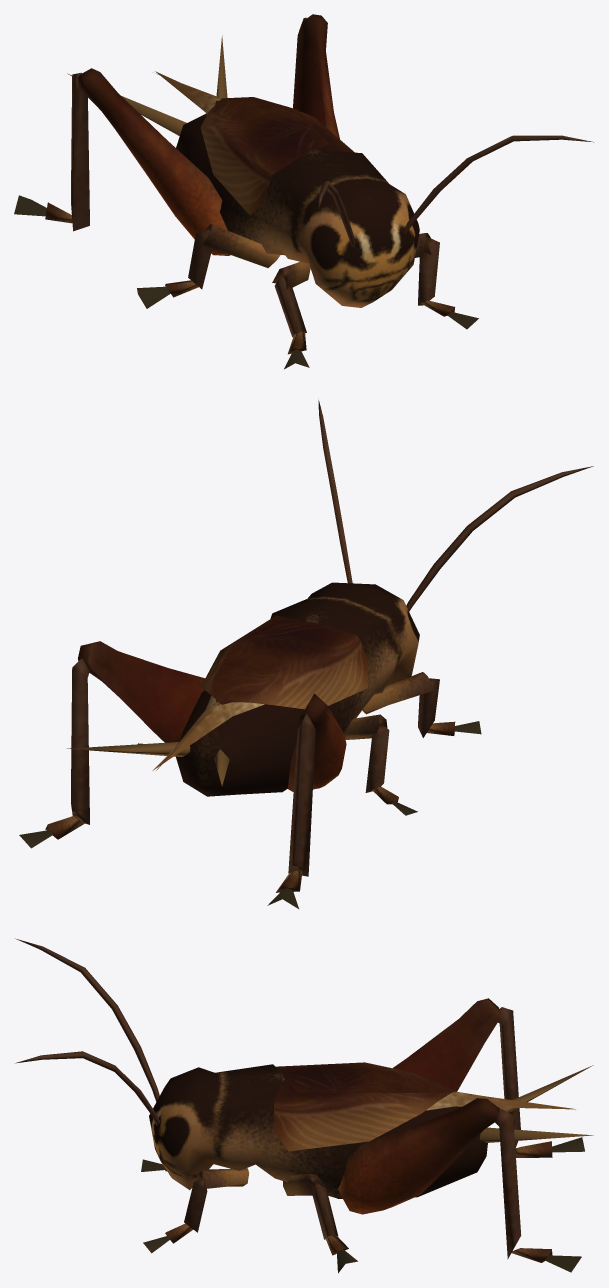
File: InsectKohrogi.glb
3 views of the same model, one above another, from view 1: azimuth 30°, elevation 25°; view 2: azimuth 150°, elevation 25°; view 3: azimuth 270°, elevation 25° (orthographic). The views are drawn at different scales.
Visible parts, largest first — view 1: body112__mKohrogi; view 2: body112__mKohrogi; view 3: body112__mKohrogi.
Boxes of the visible parts, left/top/right/bottom form: body112__mKohrogi: left=14, top=14, right=593, bottom=369; body112__mKohrogi: left=19, top=400, right=593, bottom=908; body112__mKohrogi: left=15, top=938, right=593, bottom=1273.
Size of the model in its own units: 2.07 by 1.57 by 3.92.
1 material, 1 textured.
